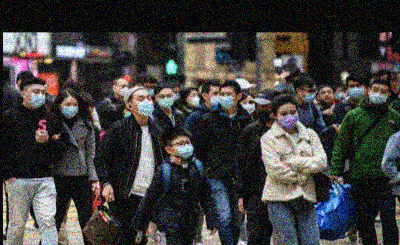with_mask: (135, 93, 154, 117), (277, 109, 298, 129), (174, 139, 194, 159), (368, 86, 387, 105), (59, 101, 79, 119), (28, 88, 45, 109), (218, 90, 235, 110), (157, 91, 173, 110), (255, 104, 270, 123), (347, 83, 363, 99), (240, 99, 255, 115), (303, 87, 317, 104), (207, 90, 219, 107), (145, 83, 157, 98), (188, 92, 199, 107), (117, 83, 128, 97), (286, 79, 295, 92), (334, 88, 342, 99), (173, 88, 179, 102)
without_mask: (318, 88, 332, 103)
